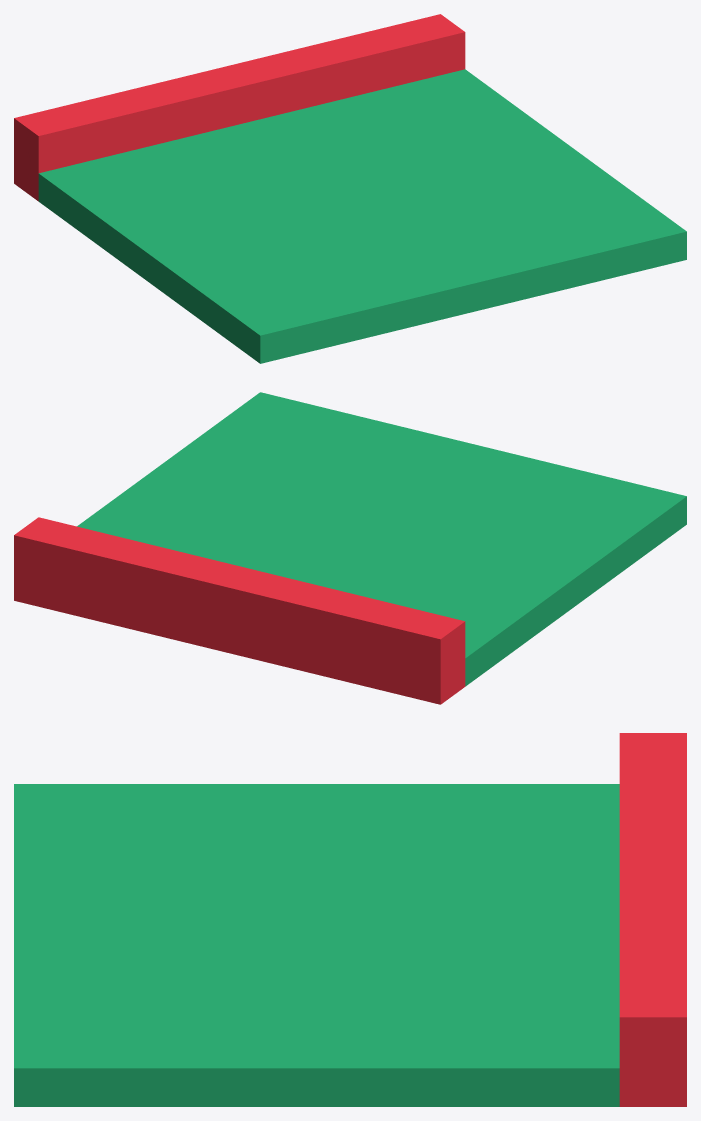
The model's file is side.dae.
The picture shows the model from 3 angles, top to bottom: view 1: azimuth 30°, elevation 25°; view 2: azimuth 150°, elevation 25°; view 3: azimuth 270°, elevation 25°; orthographic projection. The views are drawn at different scales.
Visible parts, largest first — view 1: side; view 2: side; view 3: side.
Boxes of the visible parts, x1=… form: side: x1=14, y1=14, x2=686, y2=363; side: x1=14, y1=392, x2=686, y2=704; side: x1=14, y1=733, x2=686, y2=1106.
Bounding box in the file's own units: 0.9999 × 0.1467 × 0.9999.
